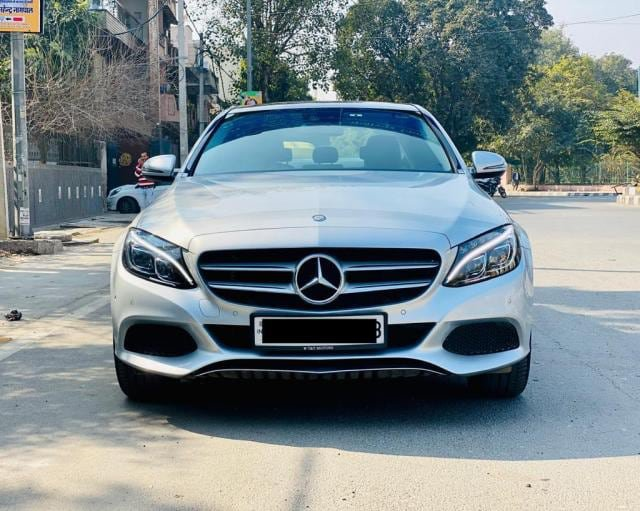car: (108, 93, 538, 408), (102, 178, 191, 210)
